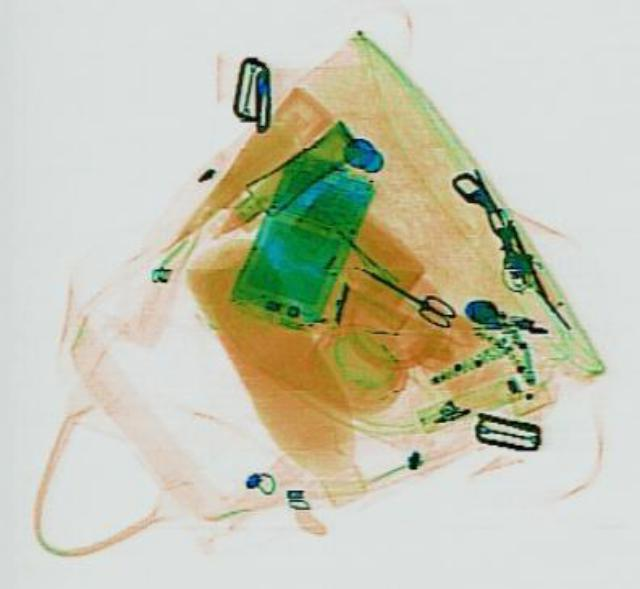Scissors: (350, 256, 458, 327)
